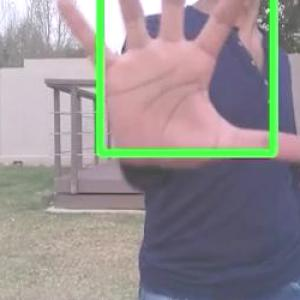follow_hand: (49, 0, 299, 177)
